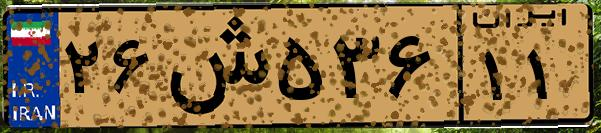1: (475, 38, 525, 113), (525, 38, 570, 115)
2: (57, 26, 110, 100)
3: (330, 28, 385, 110)
5: (270, 28, 330, 110)
6: (385, 28, 445, 110), (110, 28, 158, 98)
ش: (158, 12, 270, 120)
